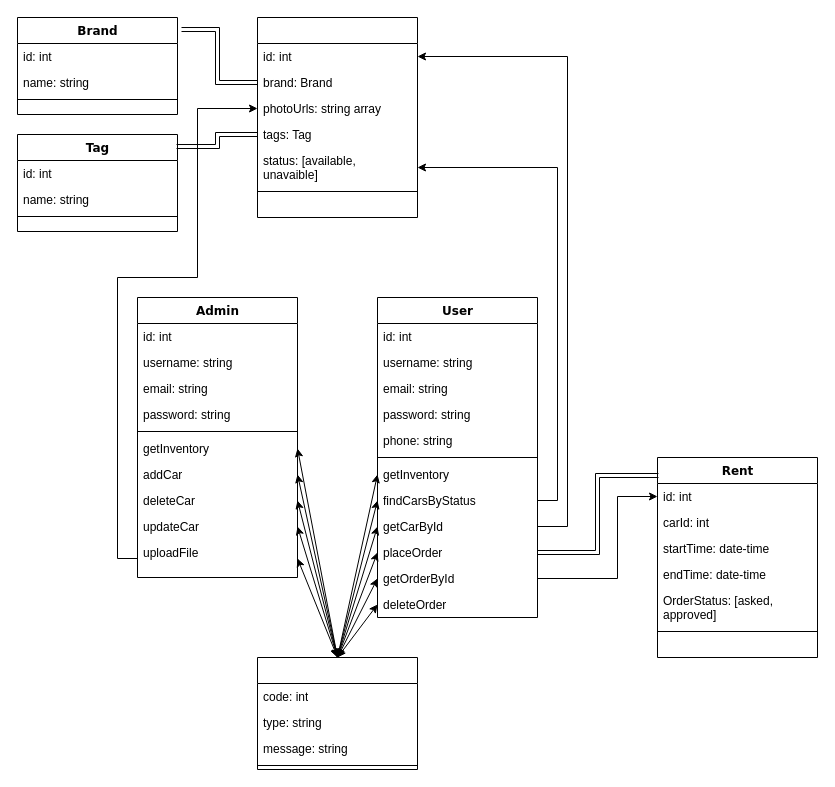
This 835x787 diagram has some shape labels left out. The shapes that lost their labels are listed below. From the top down, each one's box as (x1, y1, x2, y2) in pixels, then its label:
(256, 16, 418, 218): Car
(256, 656, 418, 770): Api response
